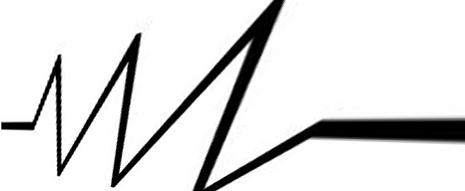resistor: (18, 3, 369, 186)
